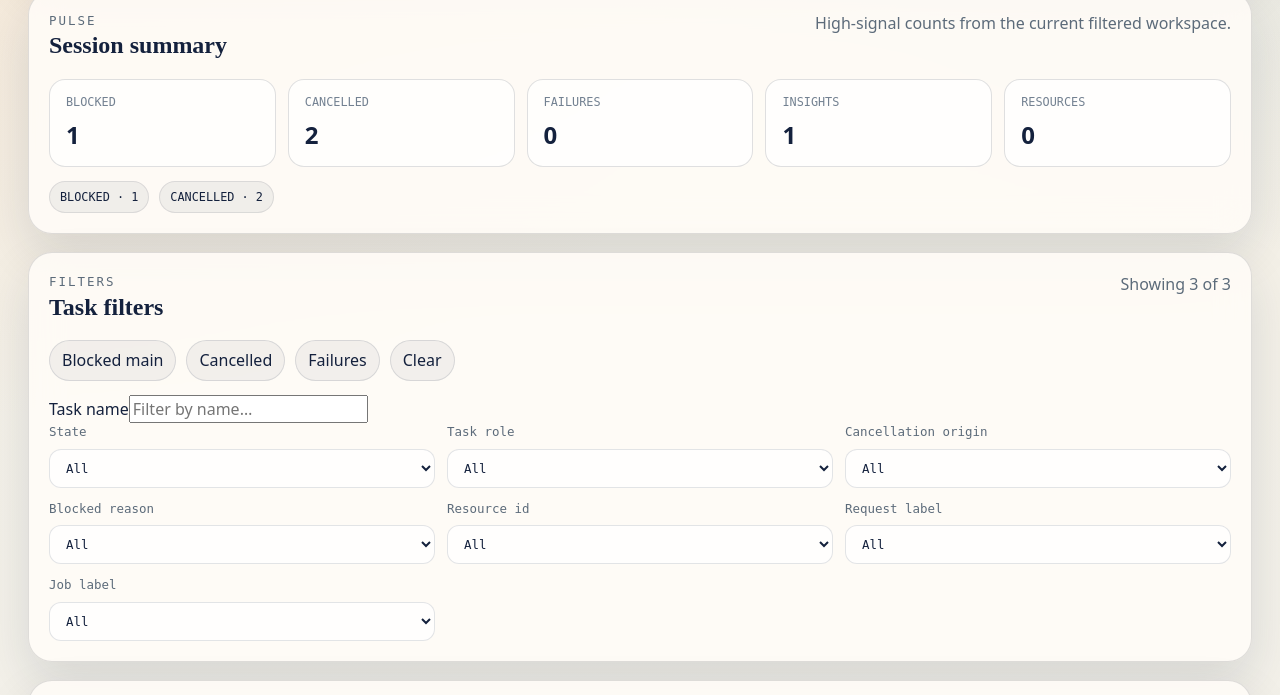
Test: App › Cancelled preset activates Cancellation tab for cancellation_cascade insights
(page scrolled)
Click the button "Cancelled" at [236, 361], box [186,340,285,381]
(page scrolled)
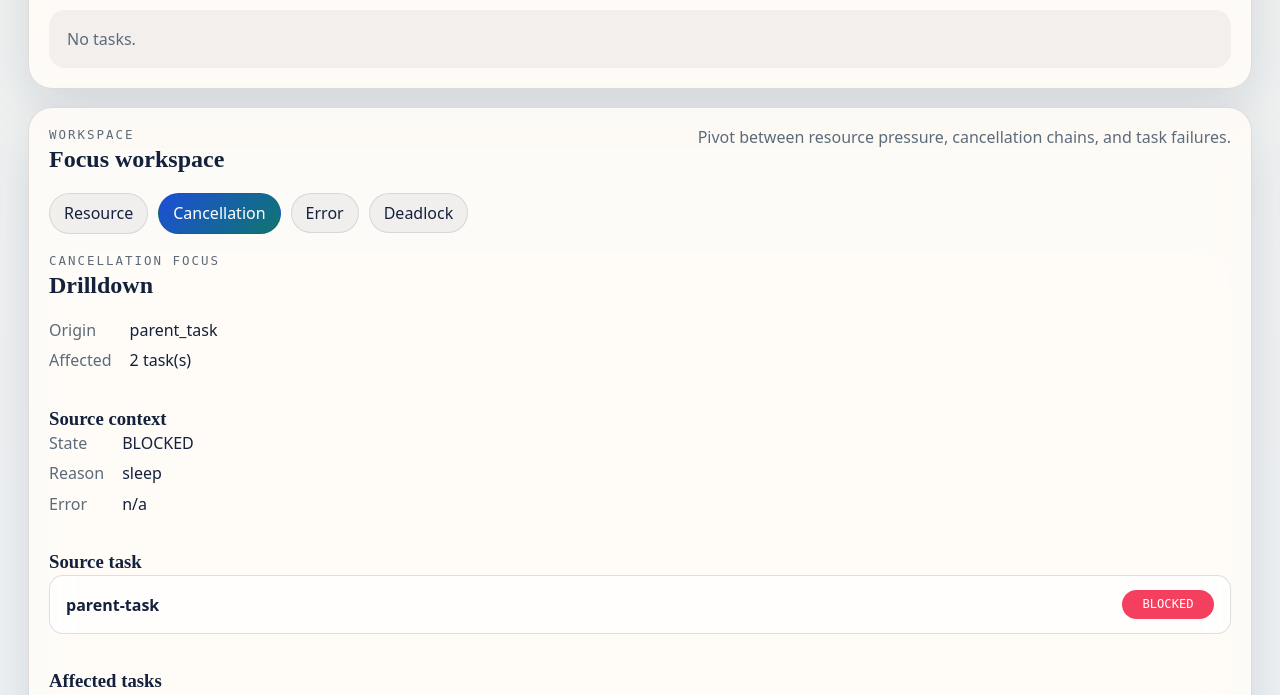
Expected: the text "Focus workspace" is shown, [49,147,224,173]
Now the text "Cancellation focus" is shown, box [49,252,220,269]
Now the text "2 task(s)" is shown, box [130,349,191,371]
